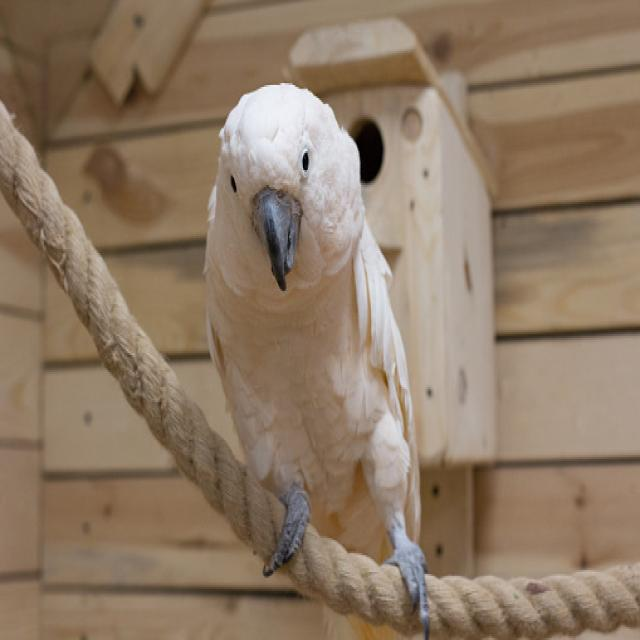Kakatua Putih: (182, 80, 457, 640)
